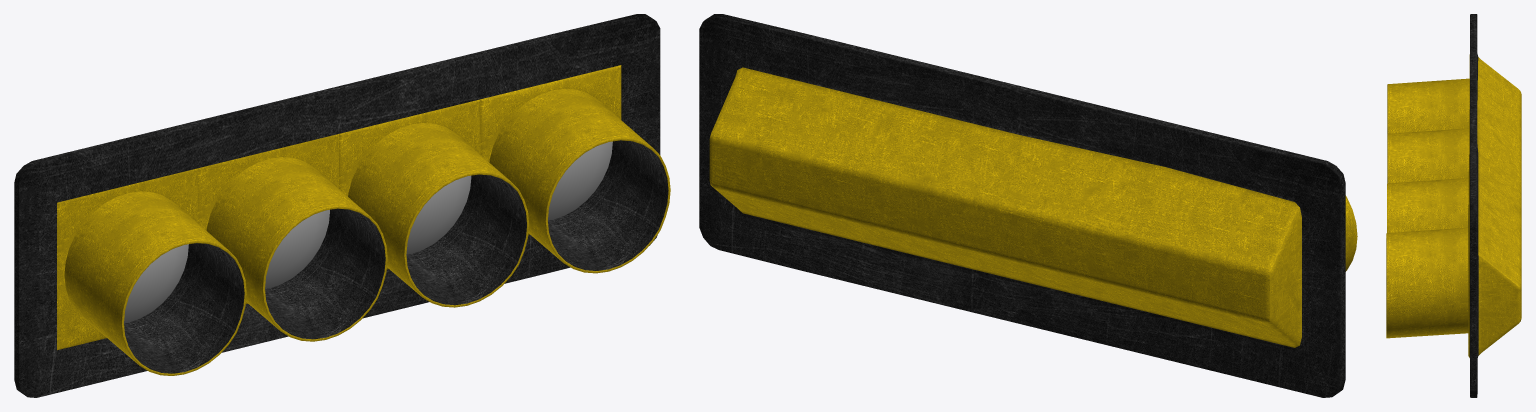
Rendered from TrafficSignalHorizontalFullConeYellowBlack4.fbx.
3 renders of one model, left to right at view 1: azimuth 30°, elevation 25°; view 2: azimuth 150°, elevation 25°; view 3: azimuth 270°, elevation 25°, orthographic. The views are drawn at different scales.
Visible parts, largest first — view 1: Casing, SignalLight1, SignalLight3, SignalLight2, SignalLight0; view 2: Casing; view 3: Casing.
Boxes of the visible parts, box(x1,y1,x2,y2) form: Casing: box(14, 14, 670, 397); SignalLight1: box(265, 210, 329, 288); SignalLight3: box(548, 141, 612, 220); SignalLight2: box(406, 175, 471, 254); SignalLight0: box(124, 244, 188, 323); Casing: box(699, 14, 1357, 397); Casing: box(1386, 14, 1521, 397).
Size of the model in its own units: 1.88 by 0.6568 by 0.4767.
